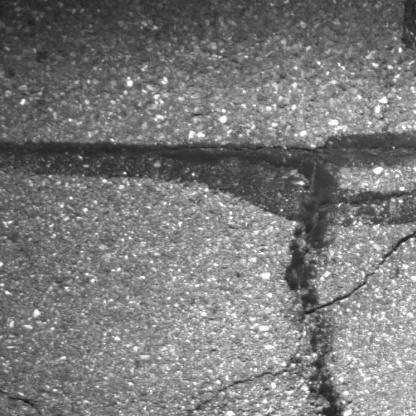Cracks: (0, 366, 293, 416), (300, 219, 416, 321)
